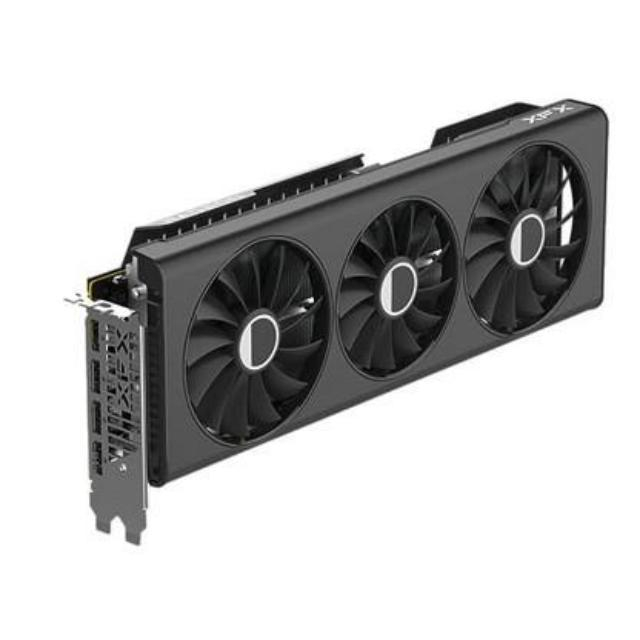GPU: (74, 94, 617, 508)
